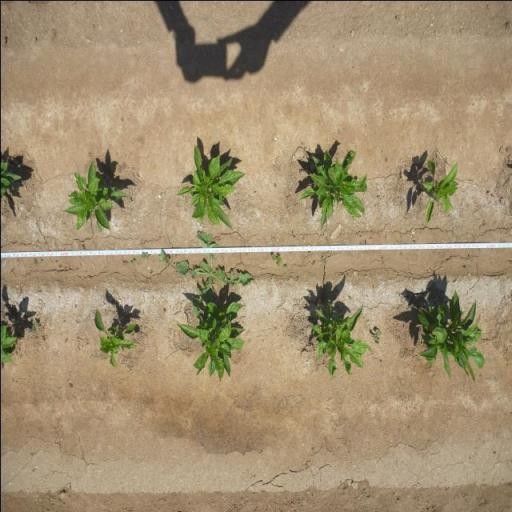plant: (412, 288, 487, 386), (173, 143, 248, 230), (297, 144, 368, 232), (174, 301, 244, 383), (62, 157, 128, 234), (307, 298, 370, 378), (418, 156, 462, 226), (95, 310, 140, 370), (0, 160, 23, 201)
weed: (173, 227, 254, 309), (157, 250, 171, 268), (370, 326, 382, 344), (270, 252, 280, 266), (31, 320, 40, 330), (141, 252, 151, 260), (120, 258, 128, 265), (127, 196, 132, 204), (282, 263, 288, 269), (129, 258, 135, 264), (32, 258, 38, 264), (89, 352, 94, 358), (149, 269, 153, 275), (273, 182, 277, 188), (82, 244, 84, 250)
